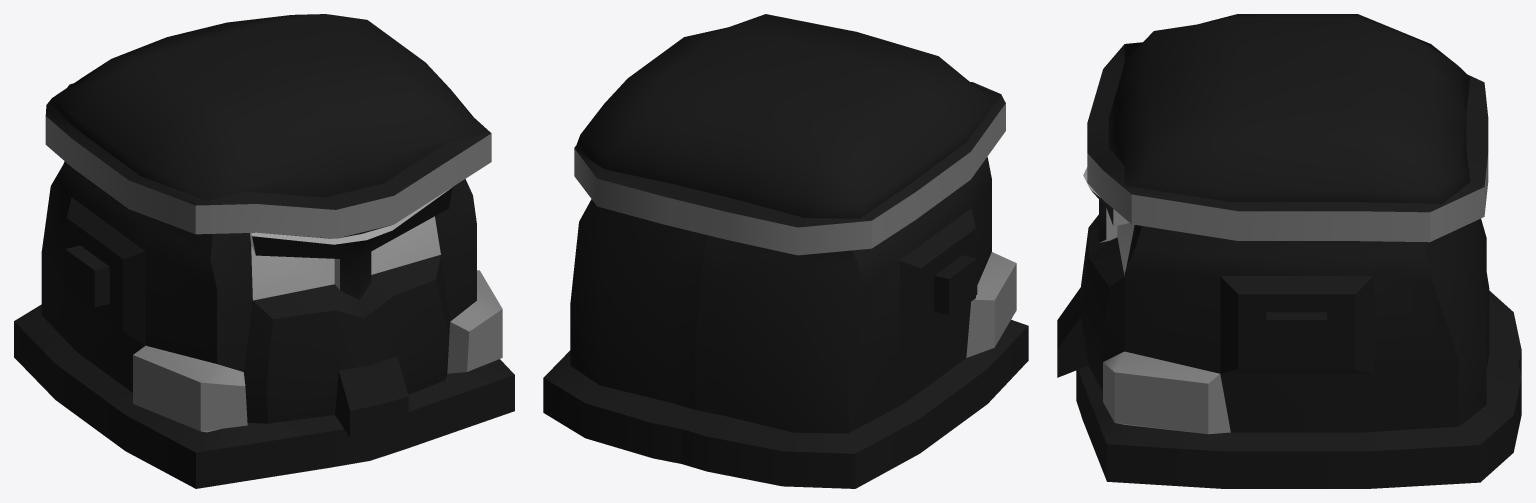
File: SW_Darktrooper_Helmet.fbx
3 renders of one model, left to right at view 1: azimuth 30°, elevation 25°; view 2: azimuth 150°, elevation 25°; view 3: azimuth 270°, elevation 25°, orthographic. The views are drawn at different scales.
Parts seen in each view (by area): view 1: SW_DarkTrooper_helmet; view 2: SW_DarkTrooper_helmet; view 3: SW_DarkTrooper_helmet.
Part boxes in pixels (<box>): SW_DarkTrooper_helmet: <box>14,14,514,488</box>; SW_DarkTrooper_helmet: <box>543,14,1028,488</box>; SW_DarkTrooper_helmet: <box>1057,14,1521,488</box>.
Size of the model in its own units: 102 by 89.84 by 108.
2 materials, 1 textured.
